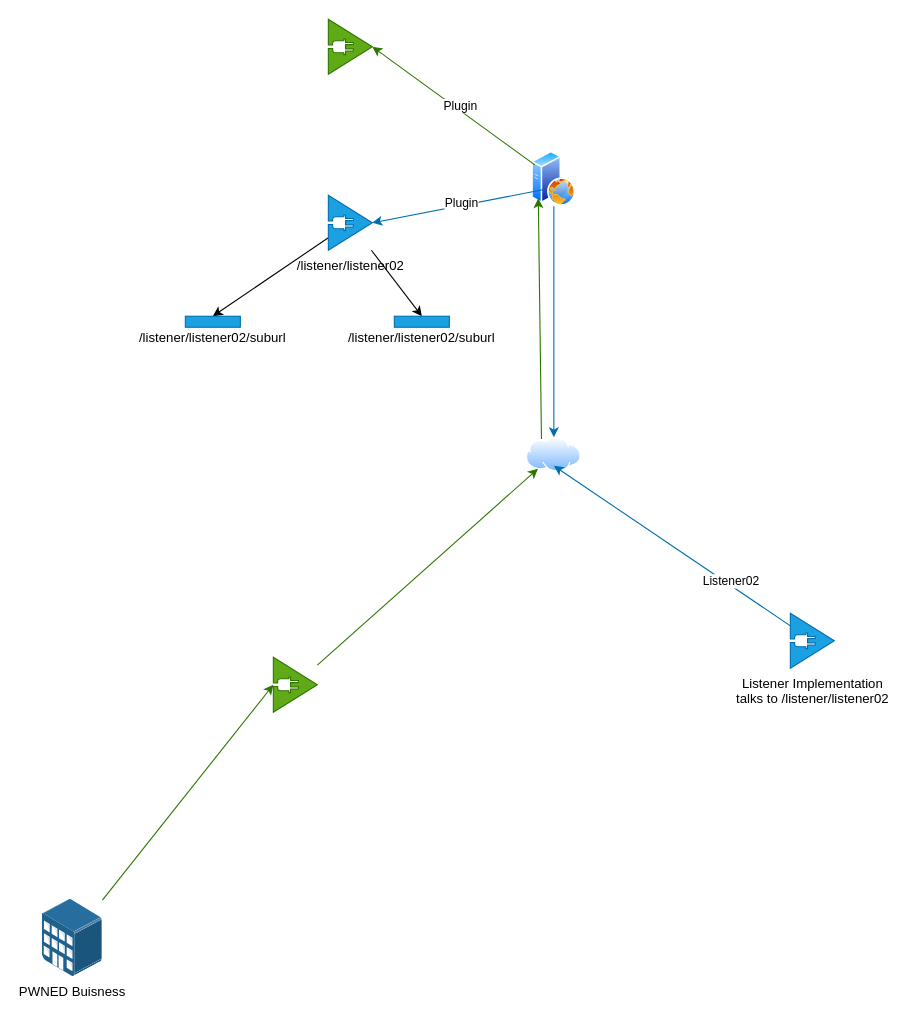
Image size: 908x1019. Some labels were removed from this diagram. The shapes that lost their labels are listed below. From the top down, each one's centre as x and y in pixels, then its label:
[349,46]: /listener/listener01
[294,684]: Listener Implementation talks to /listener/listener01
